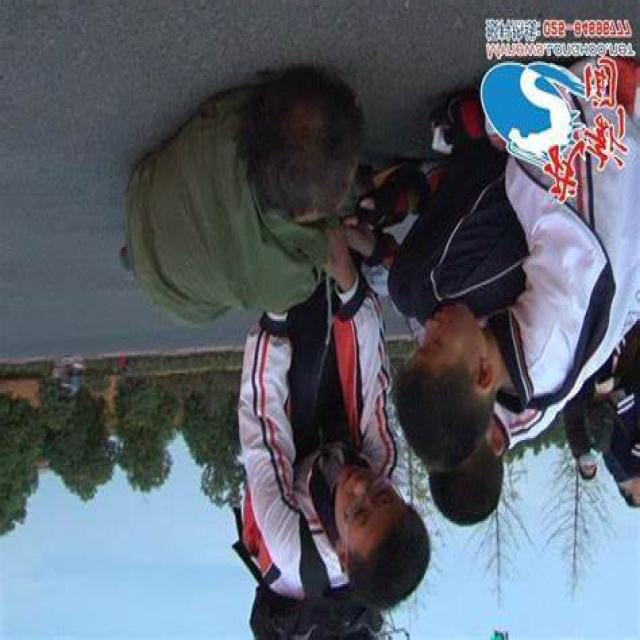nofight: (396, 77, 626, 481), (107, 65, 357, 349), (228, 279, 400, 640)
